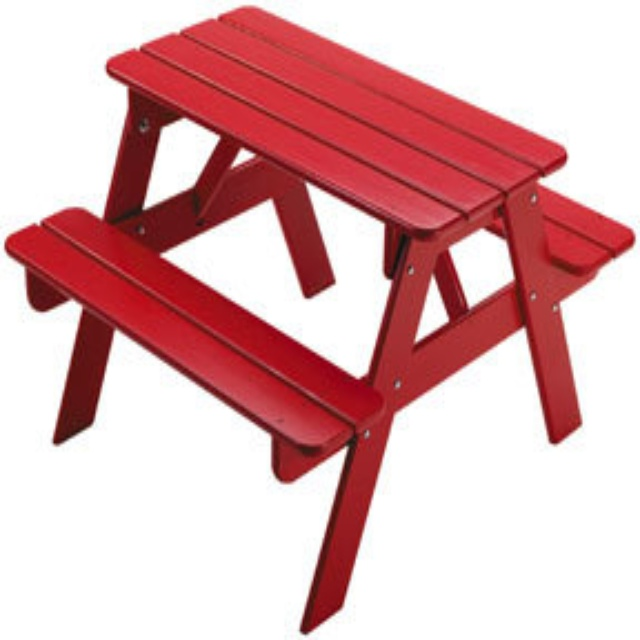obstacle: (4, 5, 636, 610)
